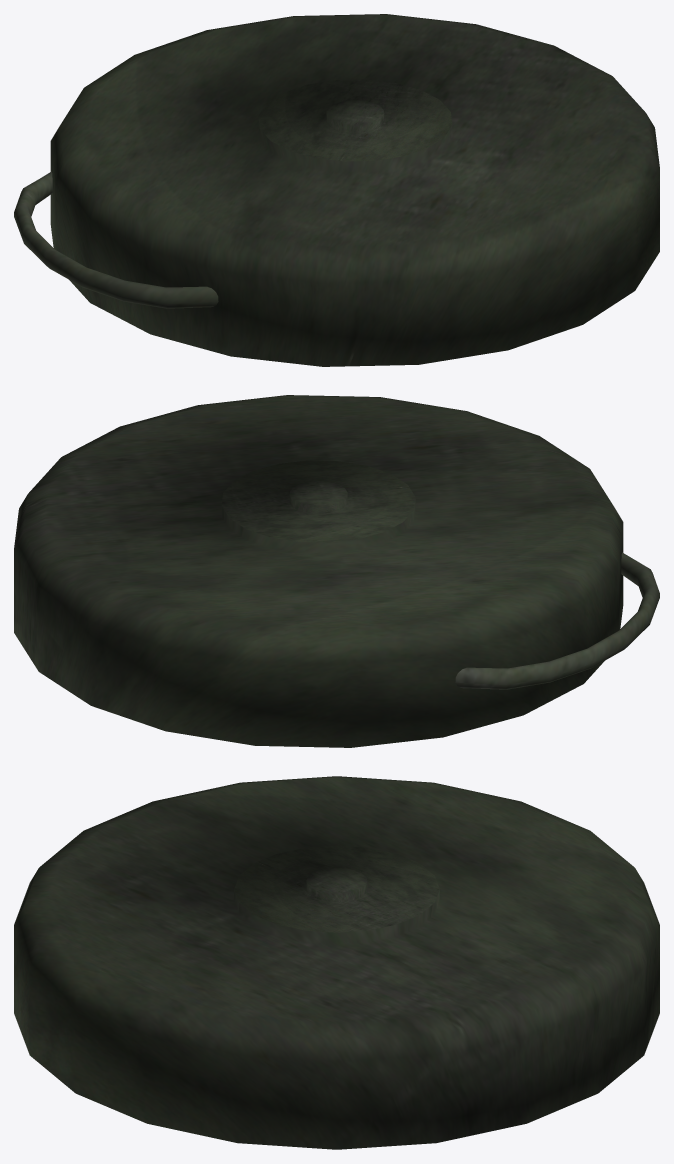
Rendered from MineTwo.fbx.
The picture shows the model from 3 angles, top to bottom: view 1: azimuth 30°, elevation 25°; view 2: azimuth 150°, elevation 25°; view 3: azimuth 270°, elevation 25°; orthographic projection. The views are drawn at different scales.
Visible parts, largest first — view 1: Mine_Two; view 2: Mine_Two; view 3: Mine_Two.
Boxes of the visible parts, x1,y1,x2,y2 form: Mine_Two: (14, 14, 659, 366); Mine_Two: (14, 395, 659, 747); Mine_Two: (14, 776, 659, 1149).
Bounding box in the file's own units: 28.6 × 5.97 × 26.38.
1 material, 1 textured.
